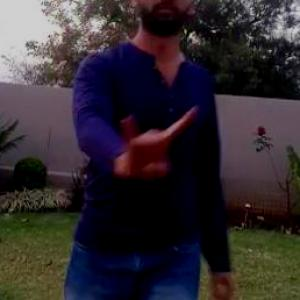takeoff-hand: (117, 96, 200, 190)
